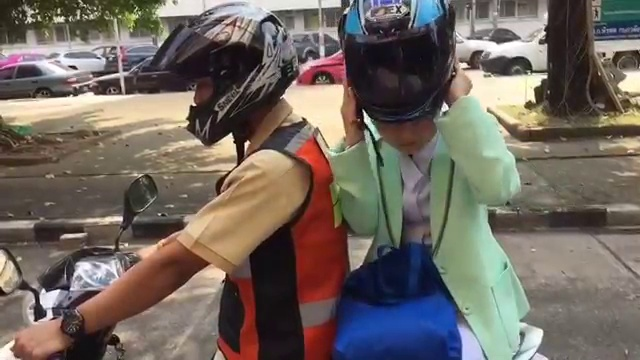helmet: (144, 2, 313, 141), (331, 1, 474, 128)
